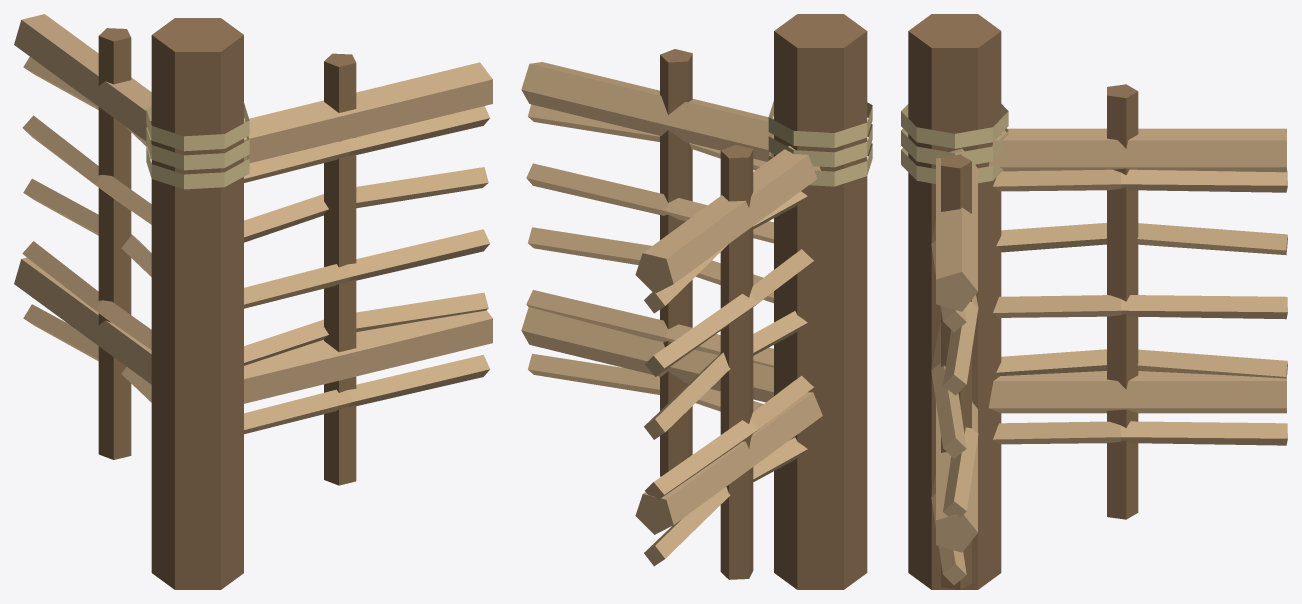
File: pen_fence_03.glb
The picture shows the model from 3 angles, left to right: view 1: azimuth 30°, elevation 25°; view 2: azimuth 150°, elevation 25°; view 3: azimuth 270°, elevation 25°; orthographic projection.
Parts seen in each view (by area): view 1: pen_fence_03; view 2: pen_fence_03; view 3: pen_fence_03.
Part boxes in pixels (left/top/right/bottom): pen_fence_03: left=14, top=14, right=492, bottom=589; pen_fence_03: left=521, top=14, right=872, bottom=589; pen_fence_03: left=901, top=14, right=1287, bottom=589.
Bounding box in the file's own units: 0.5823 × 0.9 × 0.5823.
